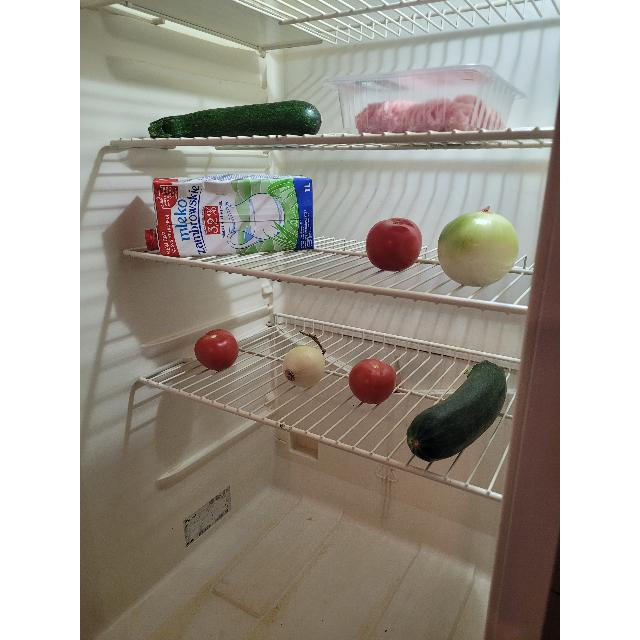meat: (360, 96, 500, 134)
milk: (149, 173, 315, 254)
onion: (436, 206, 520, 288), (280, 344, 326, 388)
tomato: (365, 218, 421, 270), (348, 357, 398, 405), (193, 328, 239, 372)
zucchini: (408, 359, 506, 461), (150, 100, 318, 138)
